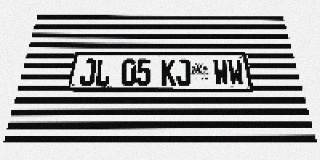0: (121, 59, 137, 86)
5: (136, 59, 151, 86)
J: (79, 59, 97, 86), (176, 59, 191, 86)
K: (161, 59, 176, 86)
L: (94, 59, 111, 86)
W: (227, 59, 245, 86), (213, 59, 230, 86)
